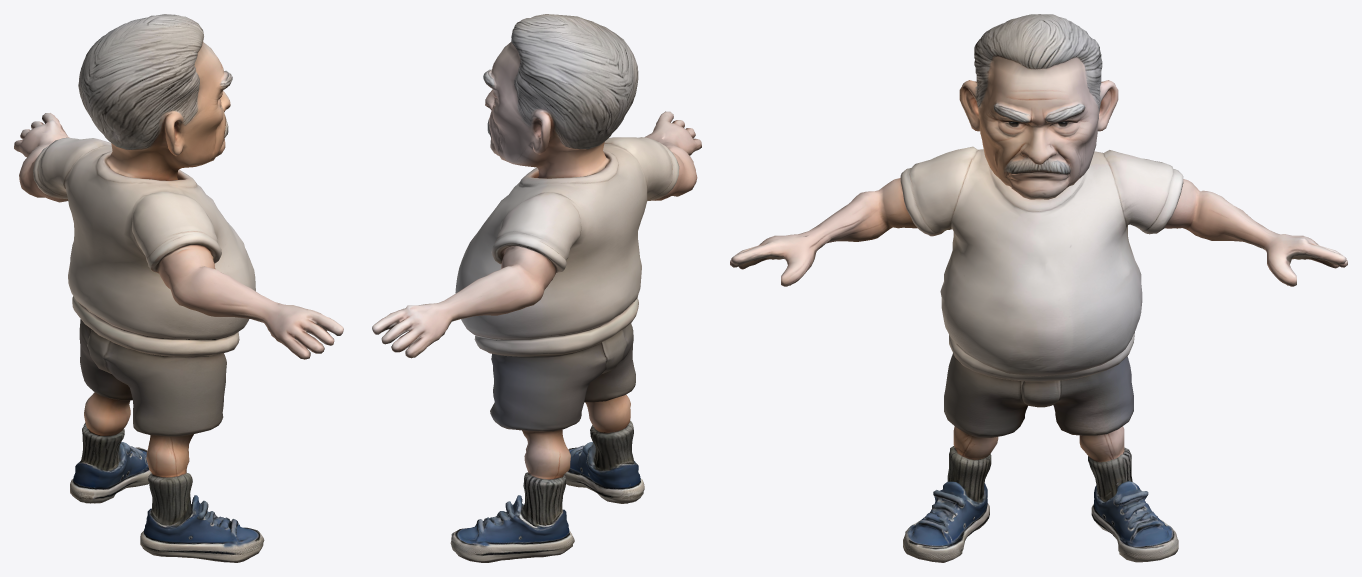
The picture shows the model from 3 angles, left to right: view 1: azimuth 30°, elevation 25°; view 2: azimuth 150°, elevation 25°; view 3: azimuth 270°, elevation 25°; orthographic projection. The views are drawn at different scales.
Parts seen in each view (by area): view 1: tripo_node_205e0b33; view 2: tripo_node_205e0b33; view 3: tripo_node_205e0b33.
Boxes of the visible parts, x1,y1,x2,y2 form: tripo_node_205e0b33: (14,14,343,562); tripo_node_205e0b33: (372,14,701,562); tripo_node_205e0b33: (730,14,1347,562).
Bounding box in the file's own units: 31.12 × 92.56 × 100.
Materials: 1 (1 with a texture image).
